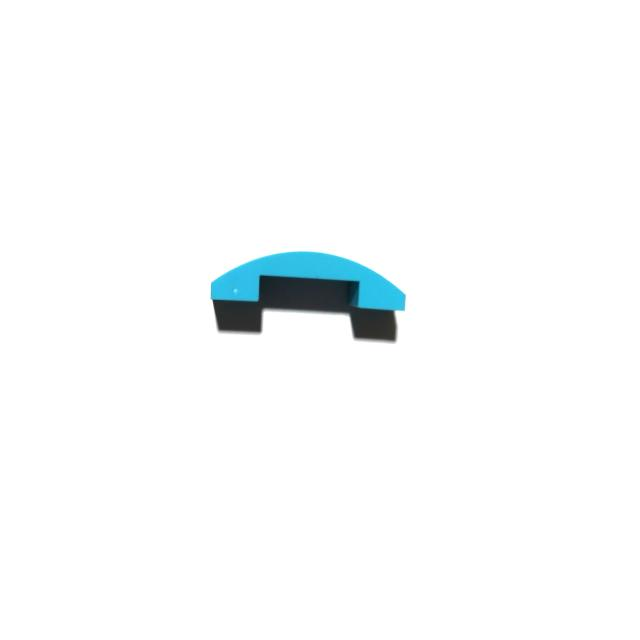Blue_Small: (208, 251, 406, 310)
